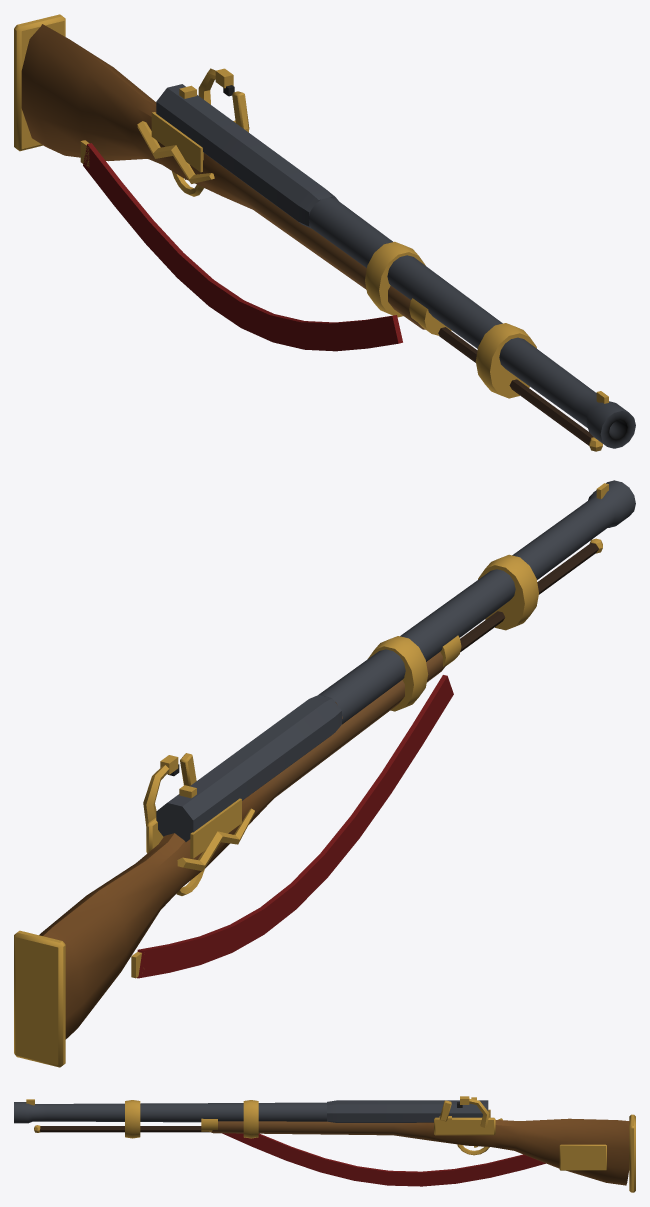
File: weapon_musket_dragoon_hi.glb
The picture shows the model from 3 angles, top to bottom: view 1: azimuth 30°, elevation 25°; view 2: azimuth 150°, elevation 25°; view 3: azimuth 270°, elevation 25°; orthographic projection. The views are drawn at different scales.
Visible parts, largest first — view 1: weapon_musket_dragoon_hi; view 2: weapon_musket_dragoon_hi; view 3: weapon_musket_dragoon_hi.
Boxes of the visible parts, box(x1,y1,x2,y2) form: weapon_musket_dragoon_hi: box(14, 14, 635, 451); weapon_musket_dragoon_hi: box(14, 480, 635, 1067); weapon_musket_dragoon_hi: box(14, 1096, 635, 1192).
Size of the model in its own units: 0.0787 by 0.2376 by 1.31.
